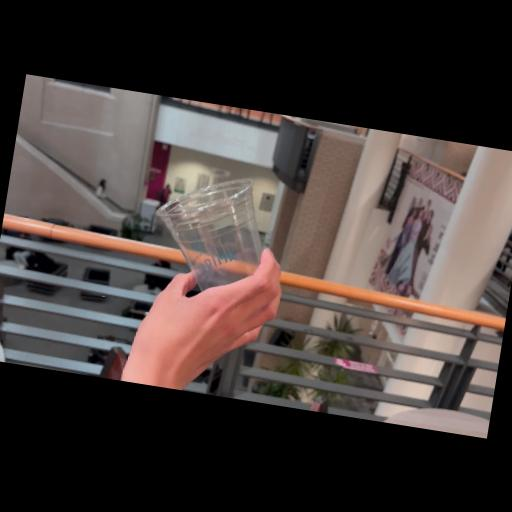lp_plastic_cup: (146, 167, 273, 296)
